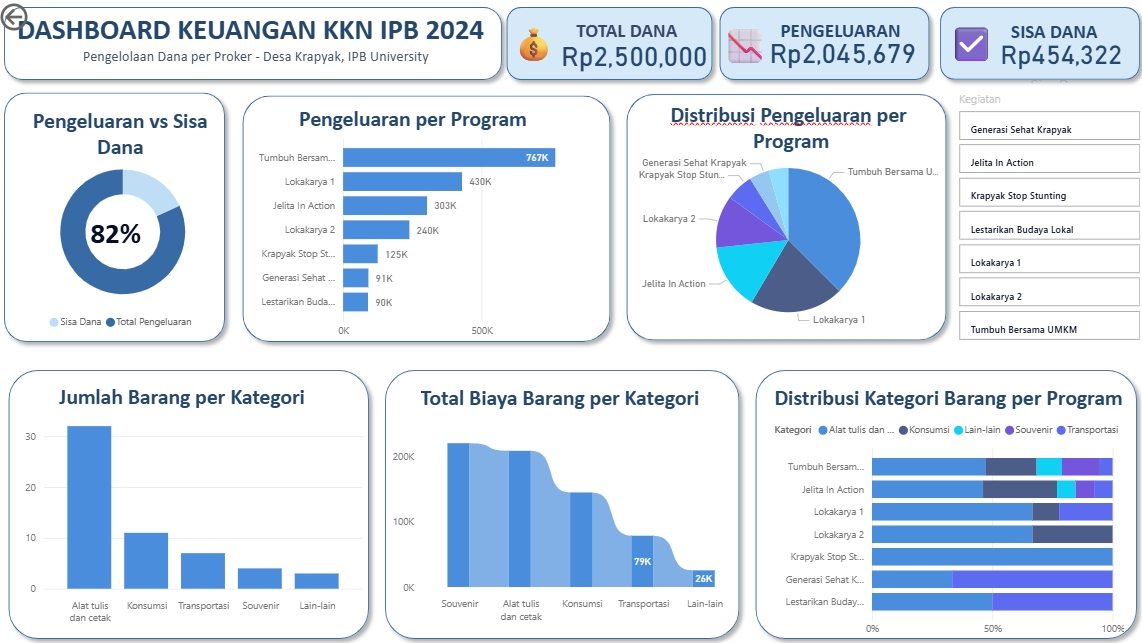

The dashboard page shown, as its layout file describes it:
{"tool":"powerbi","page":{"name":"Page 1","canvas":[1280,720],"ordinal":0},"visuals":[{"type":"shape","box":[5,403.3,418.3,316.7],"z":0},{"type":"shape","box":[0,95,263.3,295],"z":1000},{"type":"shape","box":[0,0,576.4,98.8],"z":2000},{"type":"textbox","box":[17.8,8.1,540.8,105.2],"z":3000},{"type":"shape","box":[570.7,0,240,98.6],"z":4000},{"type":"textbox","box":[622.9,17.1,171.4,85.7],"z":5000},{"type":"textbox","box":[580,18.6,64.3,61.4],"z":6000},{"type":"shape","box":[805.7,0,240,98.6],"z":7000},{"type":"shape","box":[1040,0,240,98.6],"z":8000},{"type":"textbox","box":[847.1,17.1,192.9,75.7],"z":9000},{"type":"textbox","box":[818.6,18.6,90,75.7],"z":10000},{"type":"textbox","box":[1097.1,18.6,158.6,61.4],"z":11000},{"type":"textbox","box":[1052.9,18.6,68.6,68.6],"z":12000},{"type":"donutChart","fields":{"Category":["Pengeluaran.Column1"],"Y":["select","Sum(Pengeluaran.Column2)"]},"box":[18.6,167.1,244.3,210],"z":13000},{"type":"textbox","box":[27.1,114.3,222.9,88.6],"z":14000},{"type":"textbox","box":[100,234.3,75.7,60],"z":15000},{"type":"shape","box":[265,98.3,426.7,291.7],"z":16000},{"type":"barChart","title":"Pengeluaran per Program","fields":{"Category":["Keuangan.Kegiatan"],"Y":["Sum(Keuangan.Jumlah (Rp))"]},"box":[273.3,141.7,395,243.3],"z":17000},{"type":"textbox","box":[331.7,113.3,316.7,88.3],"z":18000},{"type":"shape","box":[691.7,96.7,373.3,291.7],"z":19000},{"type":"pieChart","fields":{"Category":["Keuangan.Kegiatan"],"Y":["Sum(Keuangan.Jumlah (Rp))"]},"box":[708.3,155,343.3,225],"z":20000},{"type":"textbox","box":[691.7,108.3,383.3,120],"z":21000},{"type":"actionButton","box":[0,0,100,40],"z":22000},{"type":"clusteredColumnChart","fields":{"Category":["Keuangan.Kategori"],"Y":["CountNonNull(Keuangan.Kategori)"]},"box":[27.1,442.9,385.7,258.6],"z":23000},{"type":"shape","box":[423.3,403.3,411.7,316.7],"z":24000},{"type":"shape","box":[835,403.3,441.7,316.7],"z":25000},{"type":"advancedSlicerVisual","fields":{"Values":["Keuangan.Kegiatan"]},"box":[1065,103.3,211.7,286.7],"z":26000},{"type":"textbox","box":[65,421.7,311.7,41.7],"z":27000},{"type":"ribbonChart","fields":{"Category":["Keuangan.Kategori"],"Y":["Sum(Keuangan.Biaya (Rp))"]},"box":[435,458.3,398.3,241.7],"z":28000},{"type":"textbox","box":[100,100,300,300],"z":29000},{"type":"textbox","box":[466.7,423.3,351.7,46.7],"z":30000},{"type":"hundredPercentStackedBarChart","fields":{"Category":["Keuangan.Kegiatan"],"Series":["Keuangan.Kategori"],"Y":["CountNonNull(Keuangan.Kategori)"]},"box":[860,460,398.3,256.7],"z":31000},{"type":"textbox","box":[860,423.3,416.7,70],"z":32000},{"type":"card","fields":{"Values":["Sum(Keuangan.Jumlah (Rp))"]},"box":[857.5,33.8,172.5,52.5],"z":33000},{"type":"card","fields":{"Values":["Keuangan.Sisa Dana"]},"box":[1116.2,45,120,48.8],"z":34000},{"type":"card","fields":{"Values":["Pengeluaran.Total Dana"]},"box":[572.5,46.2,271.2,51.2],"z":35000}]}

Visuals, with their boxes in screenshot pixels (x1, y1, x2, y2), scaled from the page's 1280x720 canvas onto the 1142x643 screenshot:
shape: {"x1": 4, "y1": 360, "x2": 378, "y2": 642}
shape: {"x1": 0, "y1": 85, "x2": 235, "y2": 348}
shape: {"x1": 0, "y1": 0, "x2": 514, "y2": 88}
textbox: {"x1": 16, "y1": 7, "x2": 498, "y2": 101}
shape: {"x1": 509, "y1": 0, "x2": 723, "y2": 88}
textbox: {"x1": 556, "y1": 15, "x2": 709, "y2": 92}
textbox: {"x1": 517, "y1": 17, "x2": 575, "y2": 71}
shape: {"x1": 719, "y1": 0, "x2": 933, "y2": 88}
shape: {"x1": 928, "y1": 0, "x2": 1141, "y2": 88}
textbox: {"x1": 756, "y1": 15, "x2": 928, "y2": 83}
textbox: {"x1": 730, "y1": 17, "x2": 811, "y2": 84}
textbox: {"x1": 979, "y1": 17, "x2": 1120, "y2": 71}
textbox: {"x1": 939, "y1": 17, "x2": 1001, "y2": 78}
donutChart - Pengeluaran.Column1 x select: {"x1": 17, "y1": 149, "x2": 235, "y2": 337}
textbox: {"x1": 24, "y1": 102, "x2": 223, "y2": 181}
textbox: {"x1": 89, "y1": 209, "x2": 157, "y2": 263}
shape: {"x1": 236, "y1": 88, "x2": 617, "y2": 348}
"Pengeluaran per Program" barChart: {"x1": 244, "y1": 127, "x2": 596, "y2": 344}
textbox: {"x1": 296, "y1": 101, "x2": 578, "y2": 180}
shape: {"x1": 617, "y1": 86, "x2": 950, "y2": 347}
pieChart - Keuangan.Kegiatan x Sum(Keuangan.Jumlah (Rp)): {"x1": 632, "y1": 138, "x2": 938, "y2": 339}
textbox: {"x1": 617, "y1": 97, "x2": 959, "y2": 204}
actionButton: {"x1": 0, "y1": 0, "x2": 89, "y2": 36}
clusteredColumnChart - Keuangan.Kategori x CountNonNull(Keuangan.Kategori): {"x1": 24, "y1": 396, "x2": 368, "y2": 626}
shape: {"x1": 378, "y1": 360, "x2": 745, "y2": 642}
shape: {"x1": 745, "y1": 360, "x2": 1139, "y2": 642}
advancedSlicerVisual - Keuangan.Kegiatan: {"x1": 950, "y1": 92, "x2": 1139, "y2": 348}
textbox: {"x1": 58, "y1": 377, "x2": 336, "y2": 414}
ribbonChart - Keuangan.Kategori x Sum(Keuangan.Biaya (Rp)): {"x1": 388, "y1": 409, "x2": 743, "y2": 625}
textbox: {"x1": 89, "y1": 89, "x2": 357, "y2": 357}
textbox: {"x1": 416, "y1": 378, "x2": 730, "y2": 420}
hundredPercentStackedBarChart - Keuangan.Kegiatan x Keuangan.Kategori: {"x1": 767, "y1": 411, "x2": 1123, "y2": 640}
textbox: {"x1": 767, "y1": 378, "x2": 1139, "y2": 441}
card - Sum(Keuangan.Jumlah (Rp)): {"x1": 765, "y1": 30, "x2": 919, "y2": 77}
card - Keuangan.Sisa Dana: {"x1": 996, "y1": 40, "x2": 1103, "y2": 84}
card - Pengeluaran.Total Dana: {"x1": 511, "y1": 41, "x2": 753, "y2": 87}
